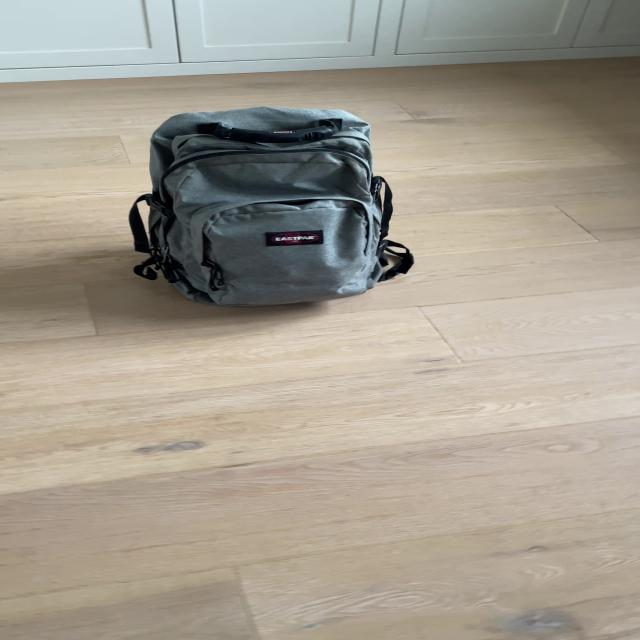backpack: (120, 96, 415, 314)
